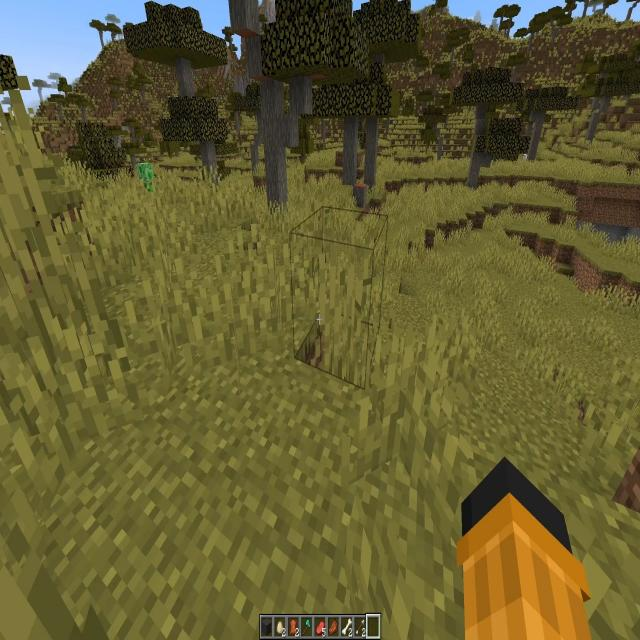Creeper: (138, 161, 152, 195)
Sheep: (523, 154, 527, 164)
